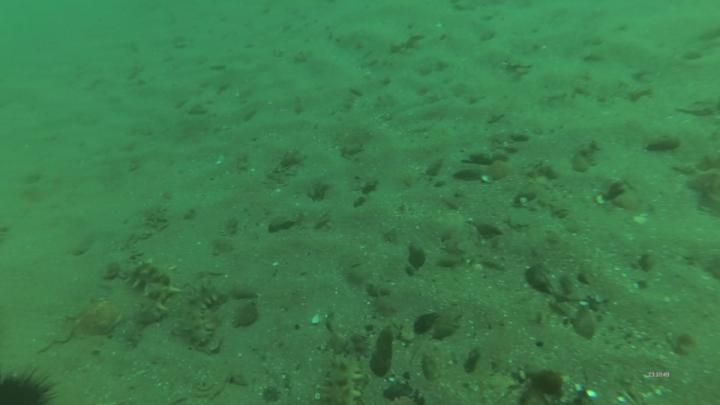echinus: (1, 362, 63, 405)
holothurian: (181, 280, 229, 351), (326, 339, 374, 405), (128, 257, 180, 309)
